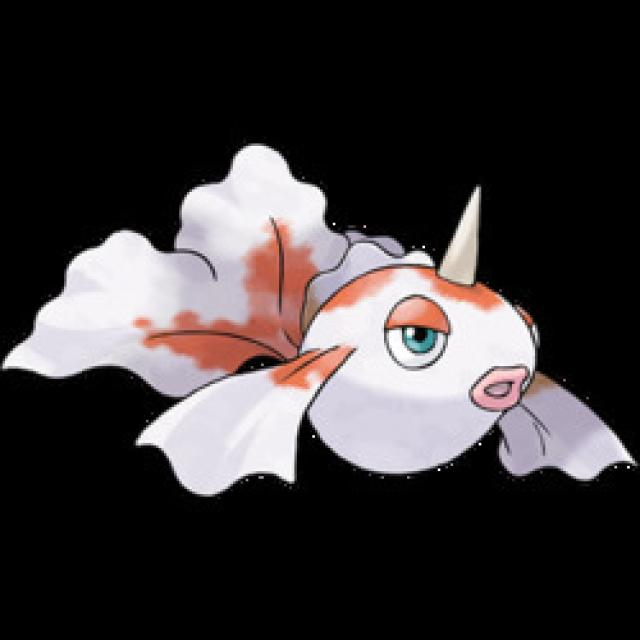Goldeen: (140, 202, 620, 493)
